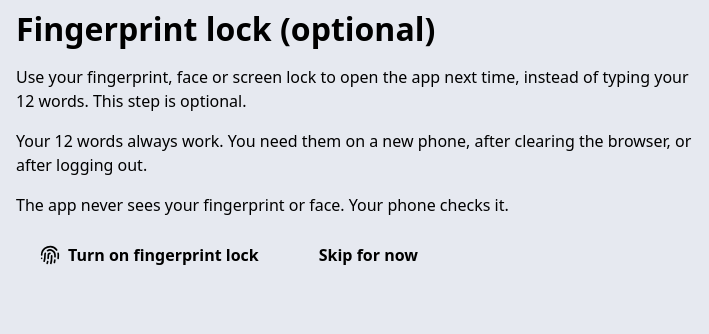
FingerprintScreen: turning on › a failure shows an alert and still lets the person skip
Click the button "Turn on fingerprint lock" at (149, 255), box [16,233,283,277]
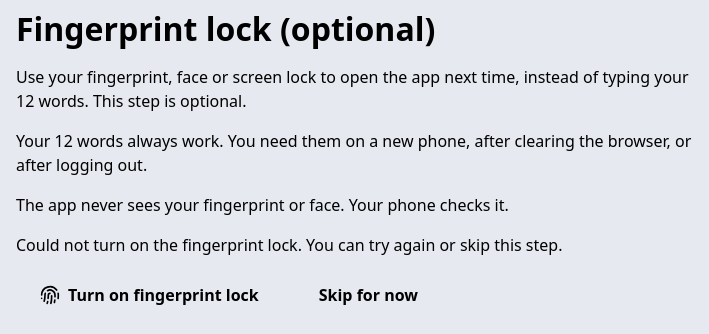
Expected: the button "Skip for now" is enabled, [295,273,442,317]
Now the message reads "Could not turn on the fingerprint lock. You can try again or skip this step.", box [16,234,562,256]
